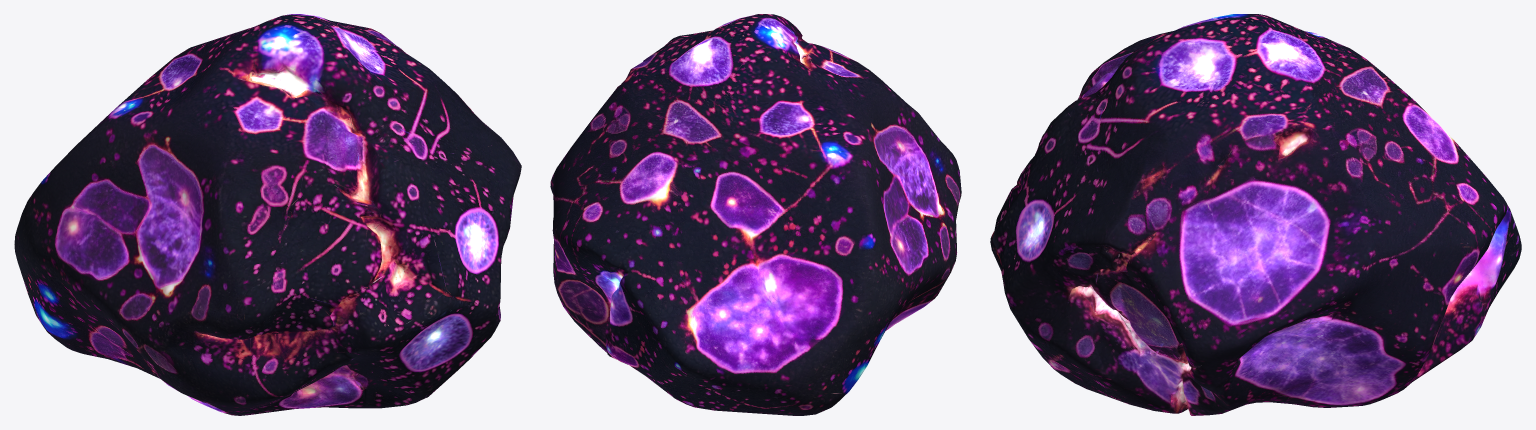
File: Meshy_AI_I_need_a_small_enchan_0530144705_texture.glb
The picture shows the model from 3 angles, left to right: view 1: azimuth 30°, elevation 25°; view 2: azimuth 150°, elevation 25°; view 3: azimuth 270°, elevation 25°; orthographic projection. The views are drawn at different scales.
Visible parts, largest first — view 1: Mesh_0; view 2: Mesh_0; view 3: Mesh_0.
Part boxes in pixels (bbox=[...]): Mesh_0: bbox=[14, 14, 521, 415]; Mesh_0: bbox=[550, 14, 961, 415]; Mesh_0: bbox=[990, 14, 1521, 415].
Bounding box in the file's own units: 1.74 × 1.41 × 1.91.
Materials: 1 (1 with a texture image).
